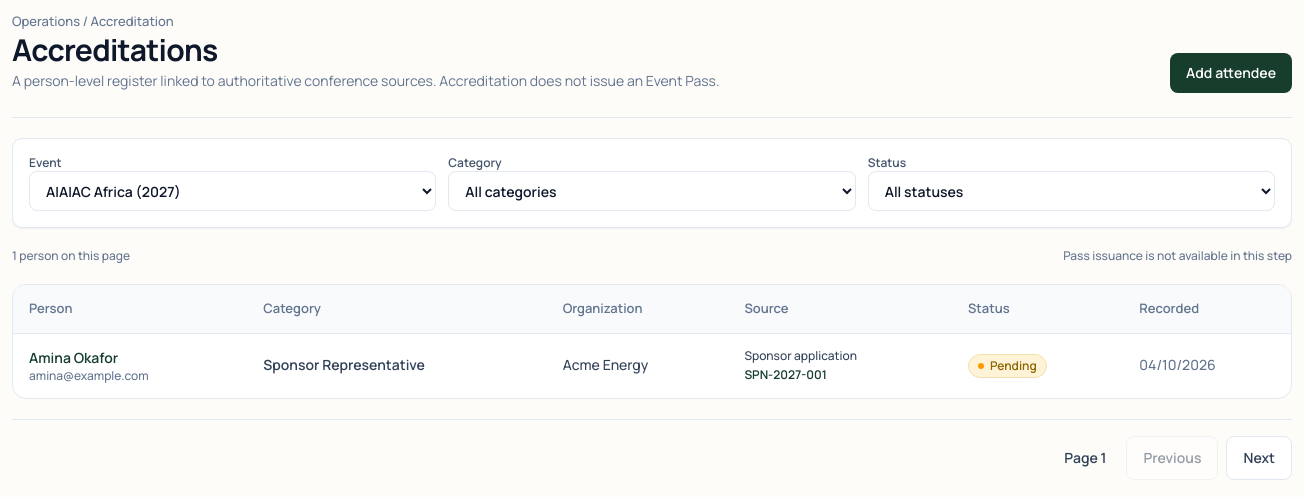
Accreditation UI › resets to page one whenever event, category, or status changes
Click the button "Next" at (1259, 458), box 1226,436 -> 1292,480
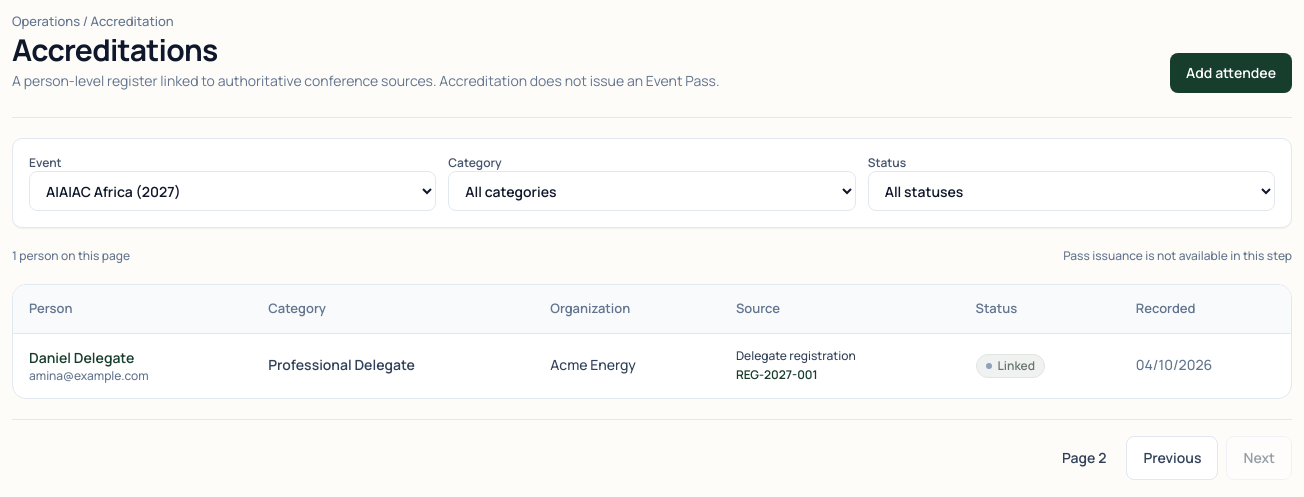
Select "Sponsor Representative" in the dropdown named "Filter by category" at (652, 191), box 448,171 -> 856,211
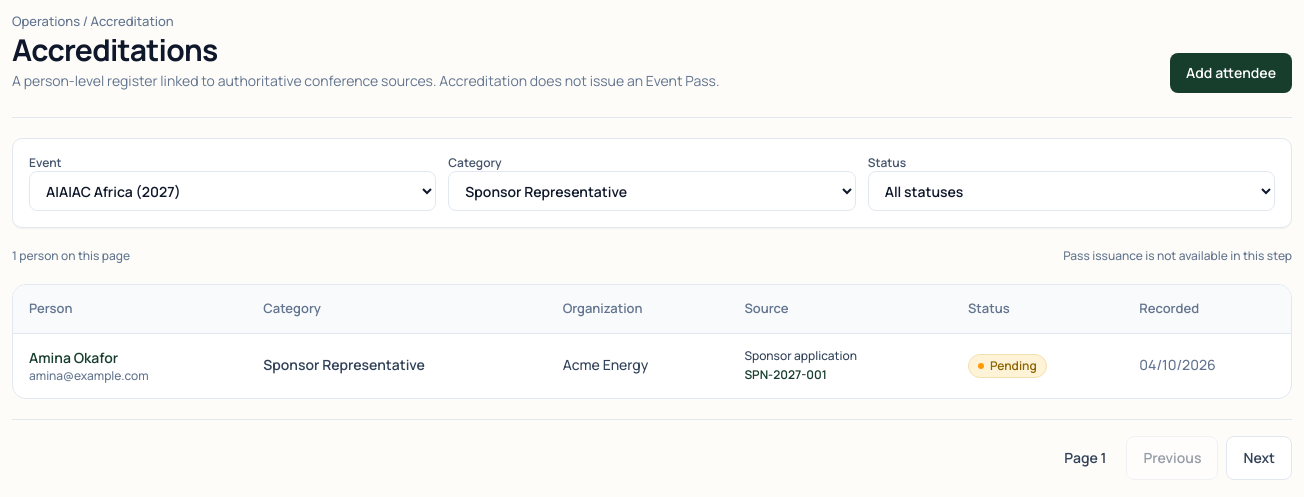
Expected: the navigation bar named "Accreditation pages" shows "Page 1", 12,418 -> 1292,480
Click the button "Next" at (1259, 458), box 1226,436 -> 1292,480
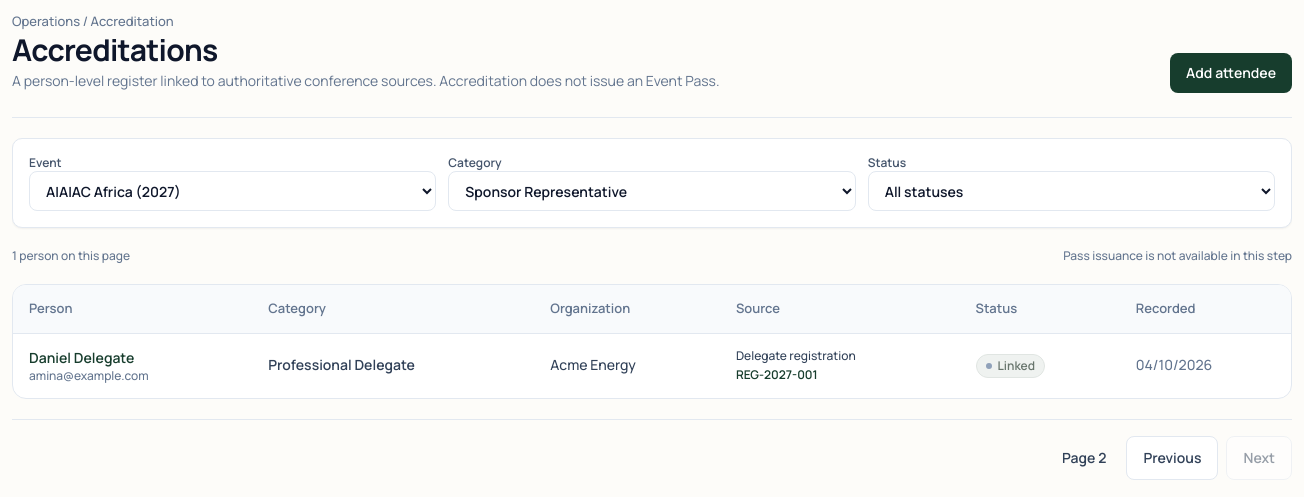
Select "Pending" in the dropdown named "Filter by status" at (1071, 191), box 868,171 -> 1275,211
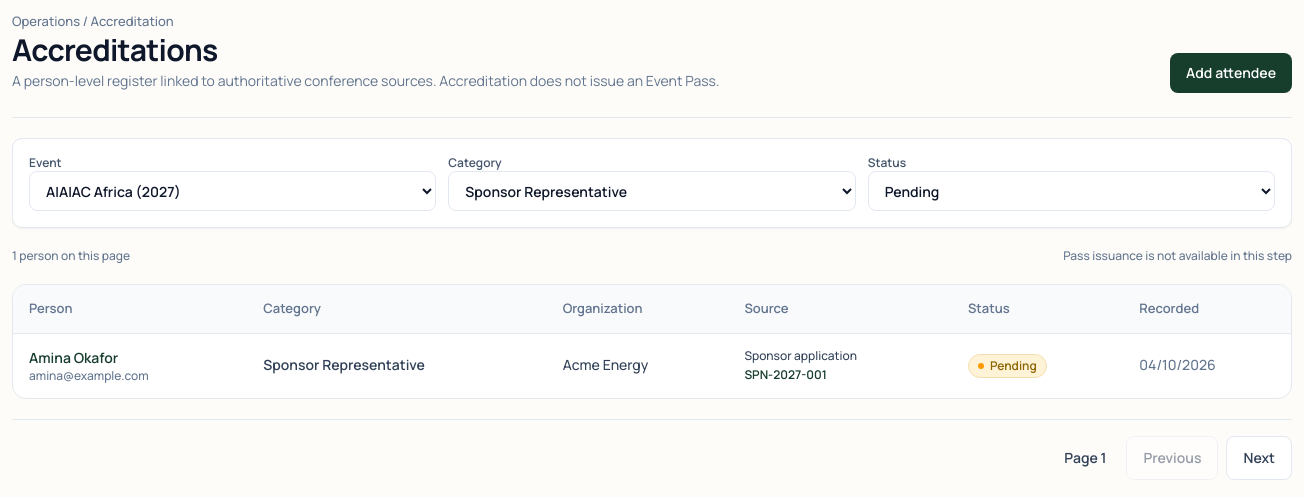
Expected: the navigation bar named "Accreditation pages" shows "Page 1", 12,418 -> 1292,480
Click the button "Next" at (1259, 458), box 1226,436 -> 1292,480
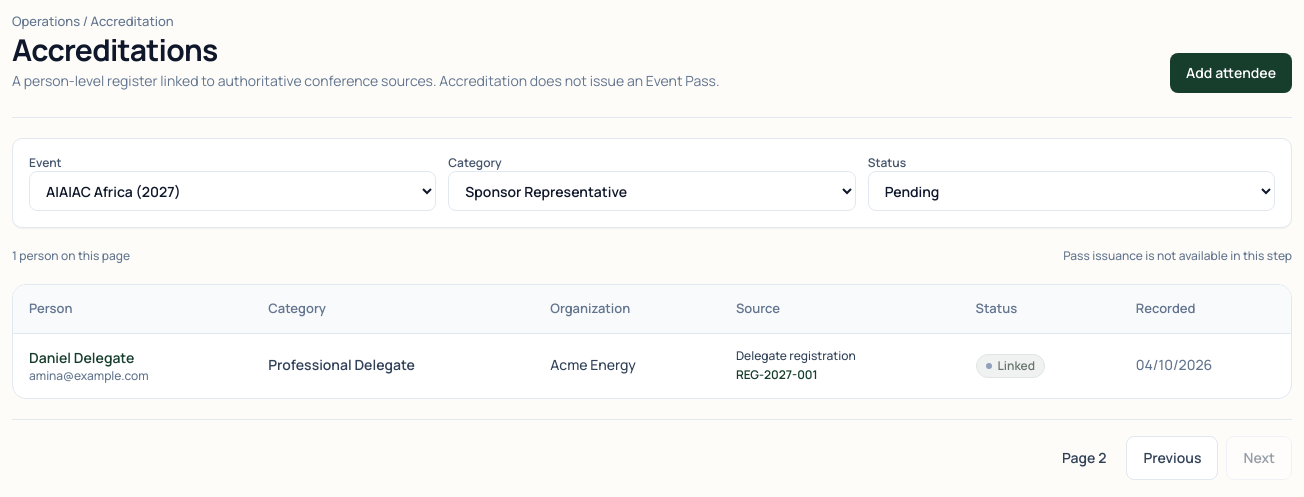
Select "AIAIAC Africa (2028)" in the dropdown named "Filter by event" at (233, 191), box 29,171 -> 436,211
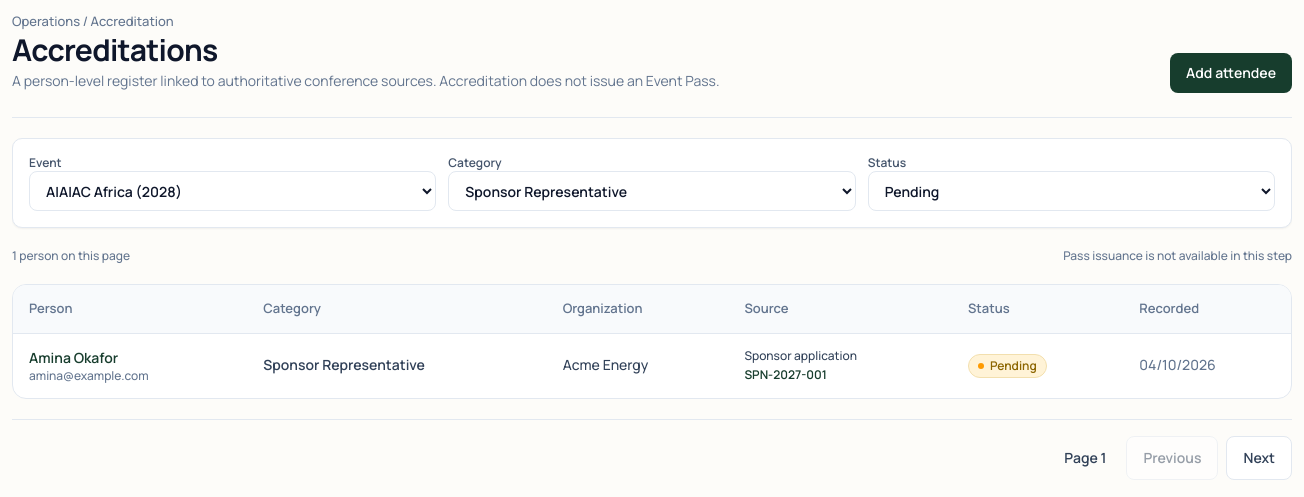
Expected: the navigation bar named "Accreditation pages" shows "Page 1", 12,418 -> 1292,480
